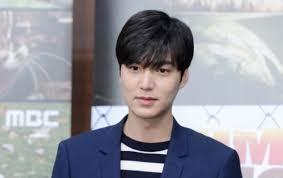Awake: (117, 7, 196, 121)
